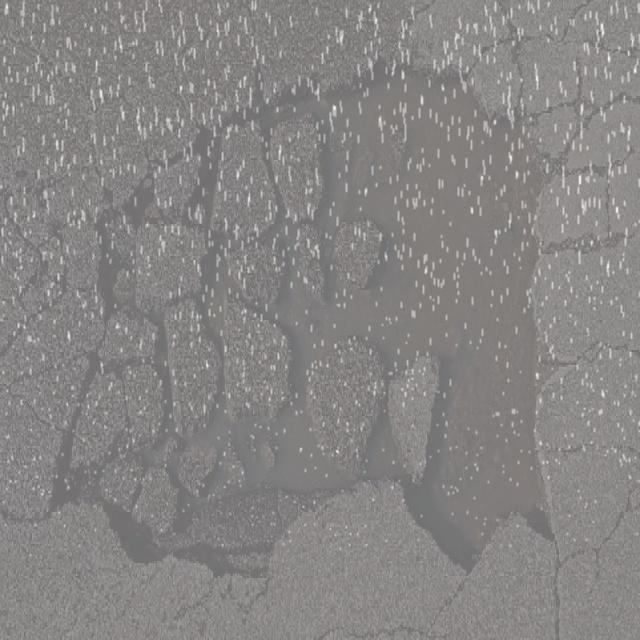Pothole: (18, 54, 574, 586)
